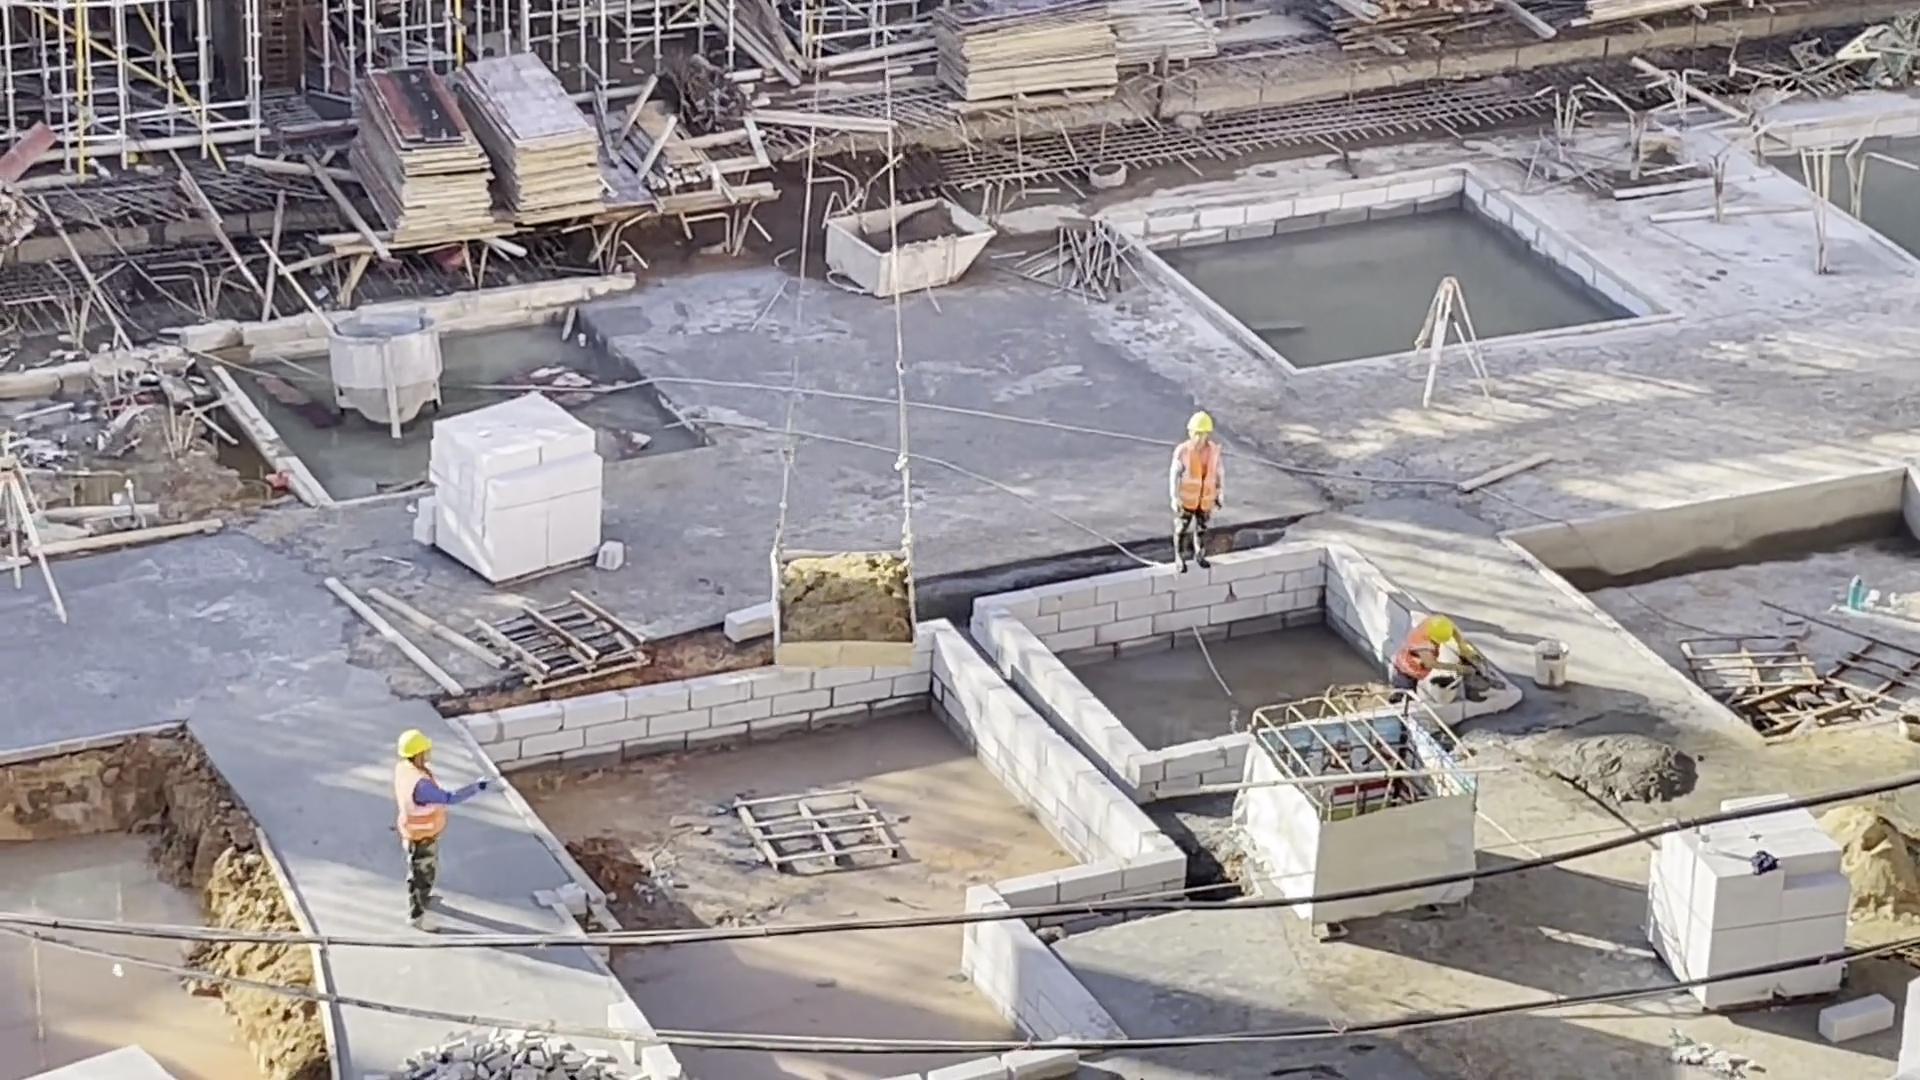board: (460, 49, 618, 231), (345, 64, 500, 246), (925, 1, 1125, 116)
brick: (427, 393, 605, 585), (1634, 835, 1853, 961)
helmet: (1426, 610, 1458, 642), (397, 730, 433, 759), (1183, 408, 1216, 435)
hopper: (766, 543, 928, 671), (821, 198, 995, 297), (329, 308, 440, 438)
person: (391, 726, 502, 934), (1165, 404, 1229, 574), (1387, 611, 1480, 708)
vest: (392, 762, 452, 842), (1172, 441, 1221, 512), (1396, 619, 1436, 680)
